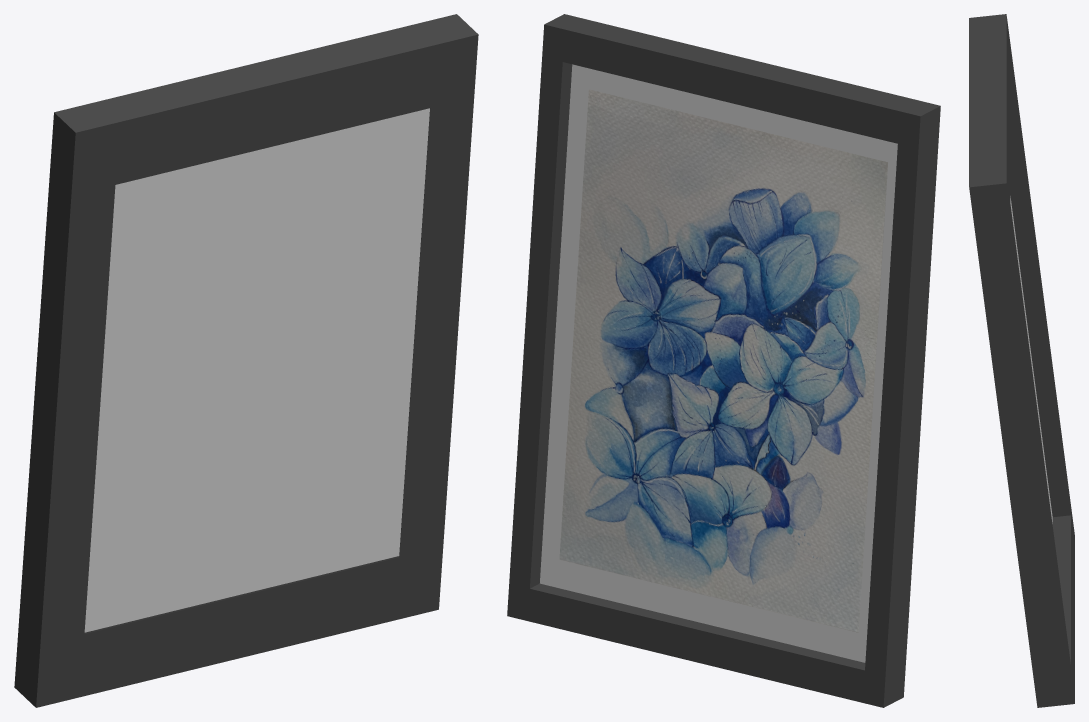
Rendered from BlueFlower.gltf.
The picture shows the model from 3 angles, left to right: view 1: azimuth 30°, elevation 25°; view 2: azimuth 150°, elevation 25°; view 3: azimuth 270°, elevation 25°; orthographic projection. The views are drawn at different scales.
Visible parts, largest first — view 1: Plane.005; view 2: Plane.005; view 3: Plane.005.
Boxes of the visible parts, x1,y1,x2,y2 form: Plane.005: (14, 14, 478, 707); Plane.005: (507, 14, 940, 707); Plane.005: (969, 14, 1074, 707).
Size of the model in its own units: 6.69 by 9.66 by 1.76.
3 materials, 1 textured.
